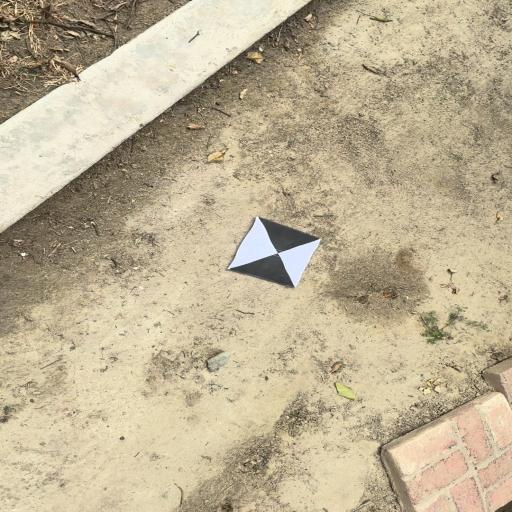target: (228, 218, 322, 287)
